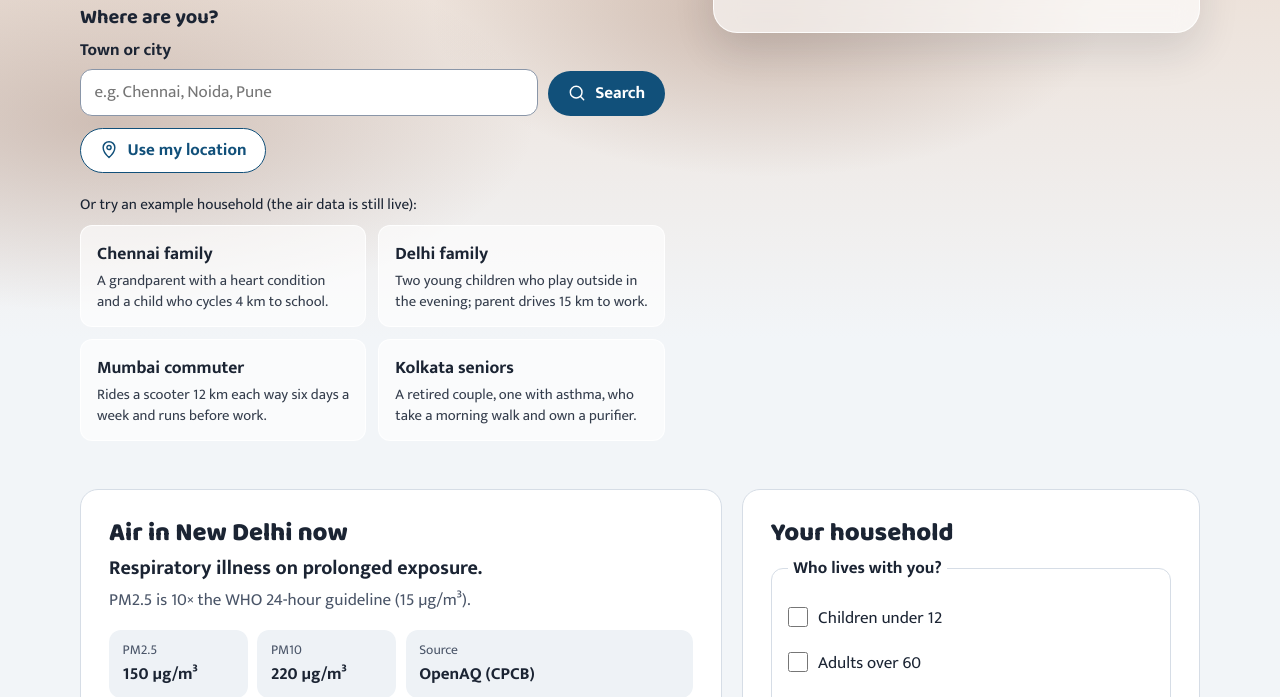
revealing the reading › scrolls the new reading into view after a pick, but not for a place restored on load
(page scrolled)
Click the button "Mumbai commuter".
click(223, 390)  # box top-left (80, 339), bottom-right (366, 441)
(page scrolled)
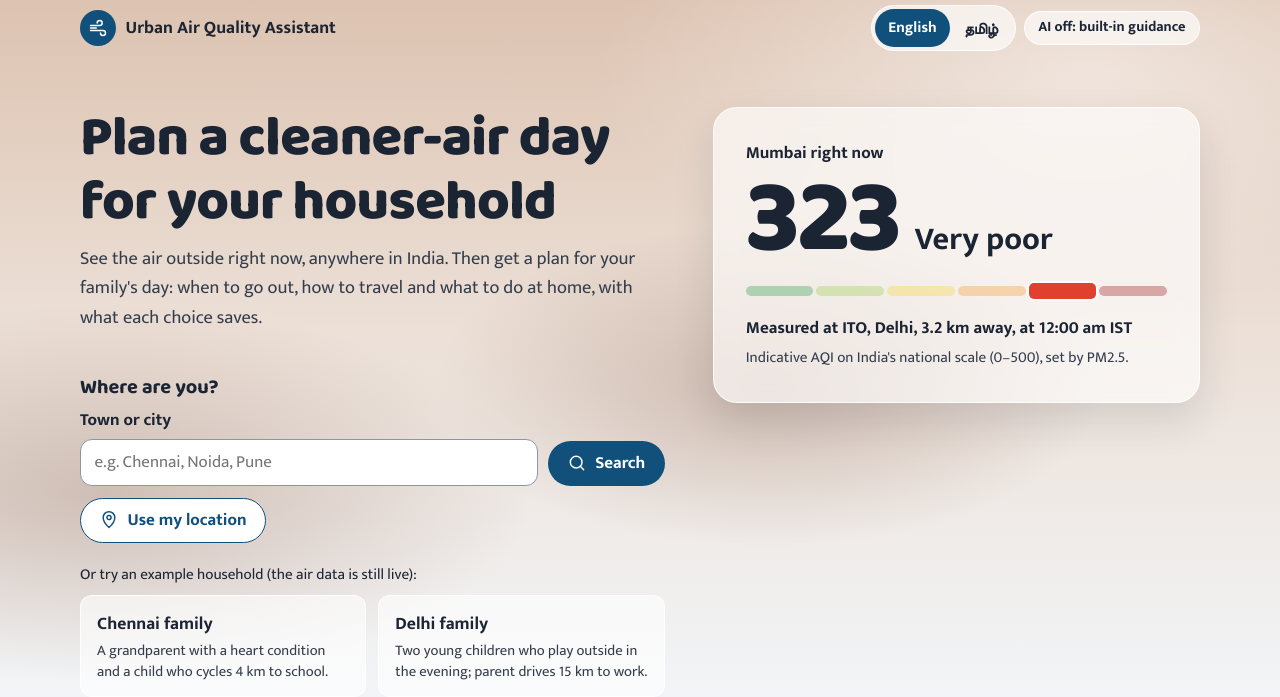
Expected: the text "323" is shown, top-left (746, 171), bottom-right (898, 270)
Expected: the text "Mumbai right now" is shown, top-left (746, 139), bottom-right (884, 167)
